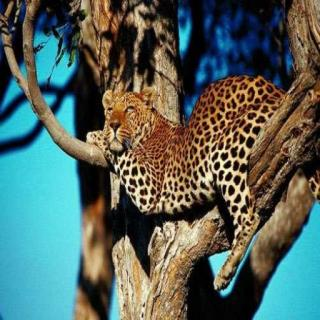Leopard: (88, 48, 300, 248)
